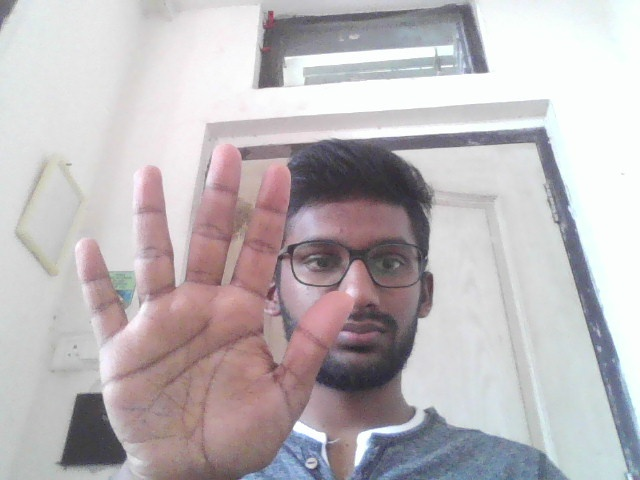Hello: (69, 138, 357, 480)
